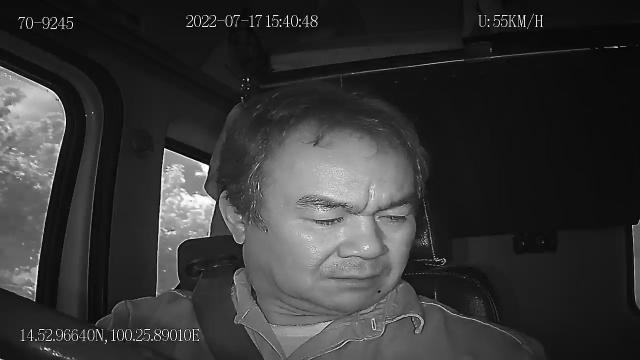SafeDriving: (294, 202, 352, 231), (368, 202, 417, 227)
Seatbelt: (190, 262, 266, 360)
